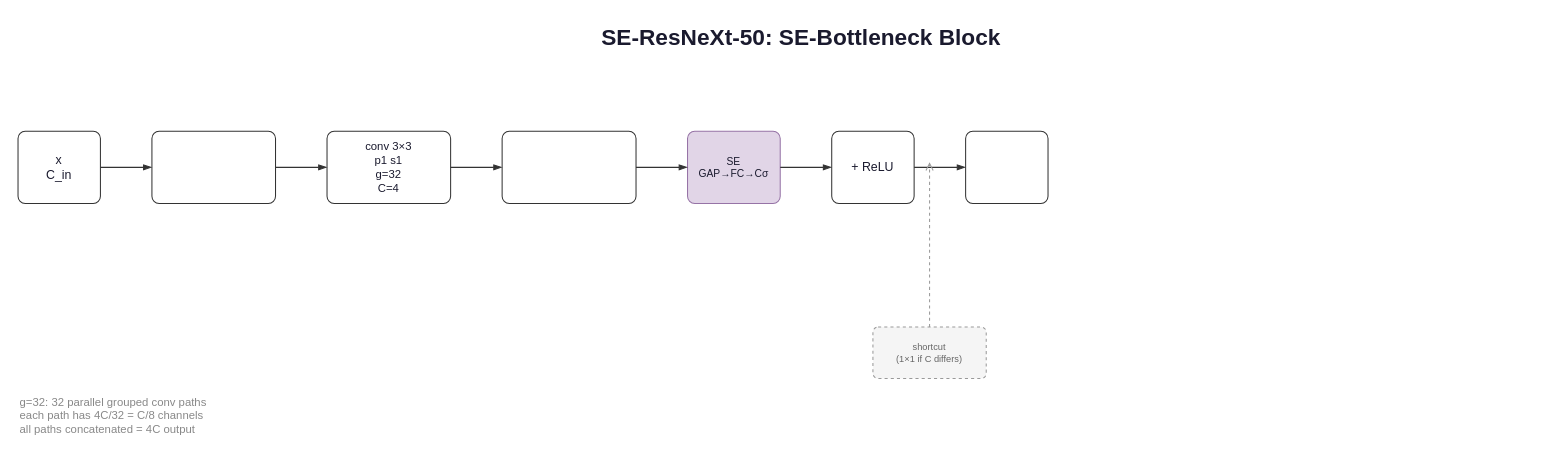
Some shapes in this 1560 by 468 pixel diagram are drawn without their labels. Here are the shapes that lost their labels. From the top down, the centre of each, then its label:
the point at 213,166: conv 1×1 p0 s1 C_in→4C
the point at 568,166: conv 1×1 p0 s1 4C→C_out
the point at 1006,166: out C_out
